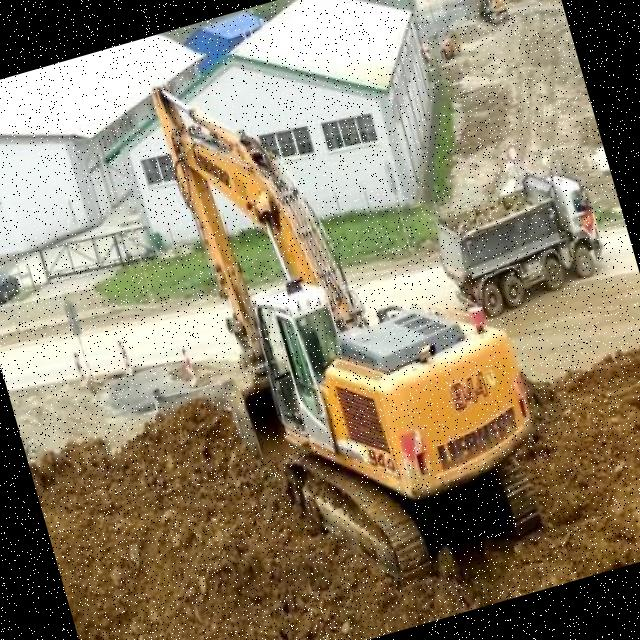Dump Truck: (414, 145, 616, 326)
Excavator: (127, 7, 587, 640)
